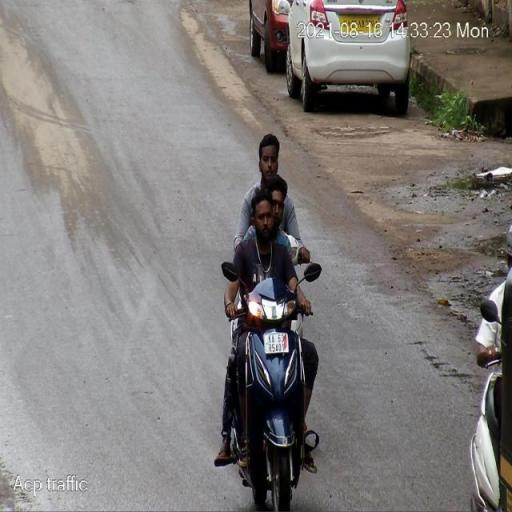tripple riding: (221, 132, 319, 324)
